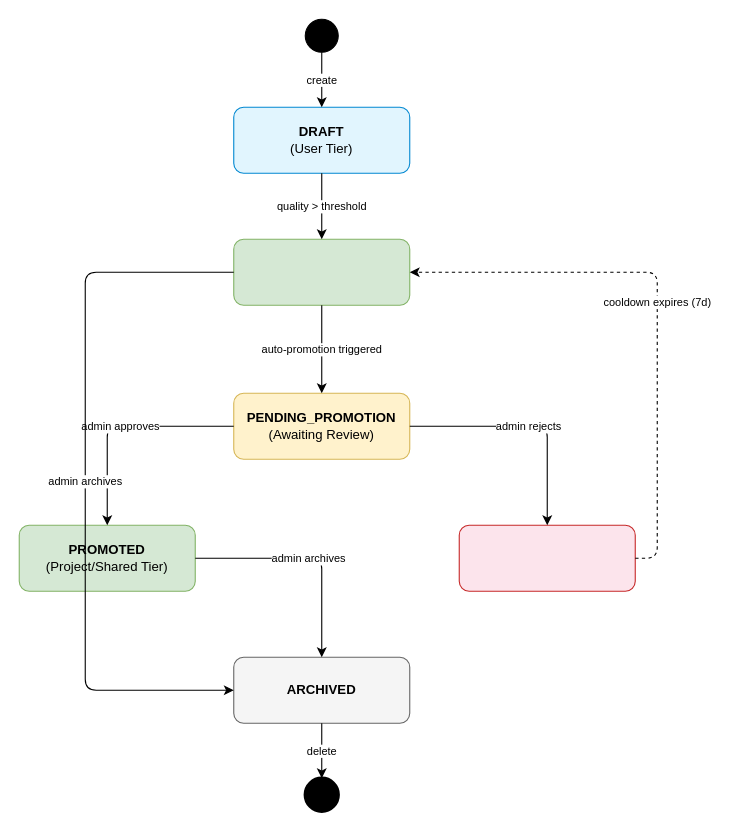
This 730x832 diagram has some shape labels left out. The centre of each missing label's shape, as x and y in pixels:
"ACTIVE (User Tier)" belongs at (321,271).
"REJECTED (7-day cooldown)" belongs at (546,557).
